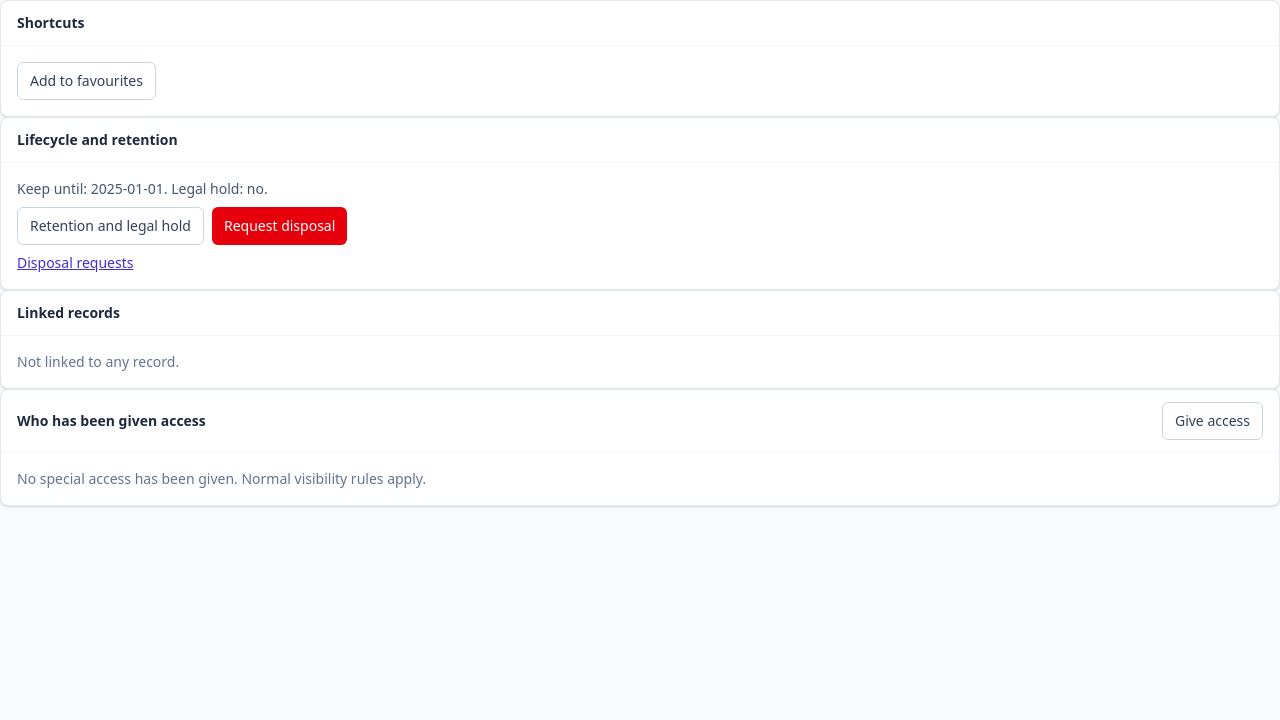
DocumentTools: lifecycle › requests disposal of an archived document
Click the button "Request disposal".
click(280, 226)  # box [212,207,347,245]
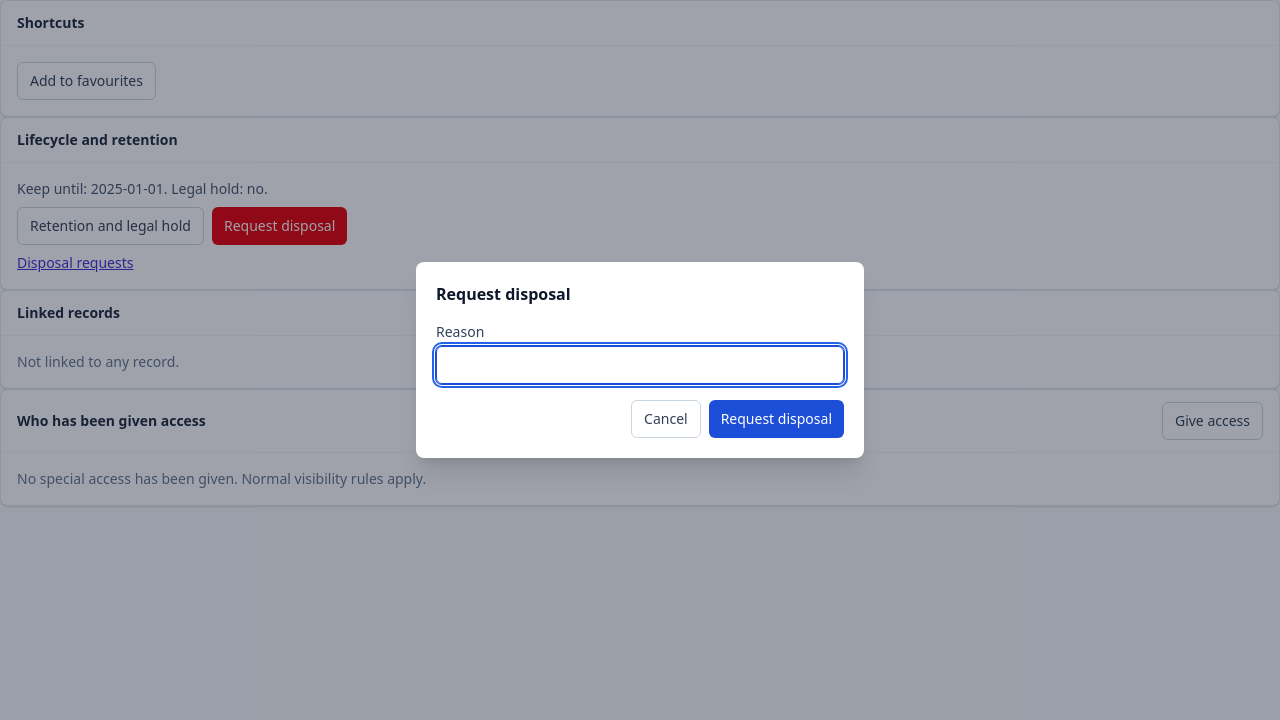
Type "Retention over" into the field labelled "Reason".
click(640, 365); type("Retention over")  # box [436,346,844,384]
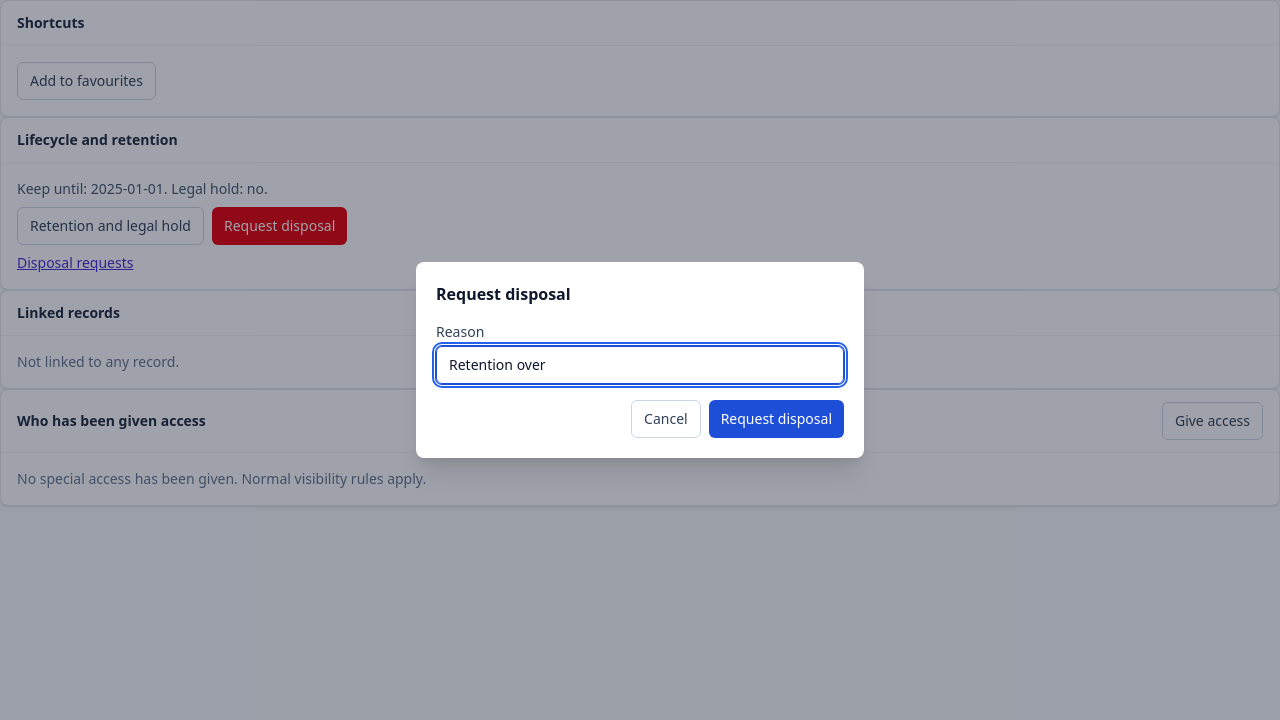
Click the button "Request disposal".
click(776, 419)  # box [709,400,844,438]
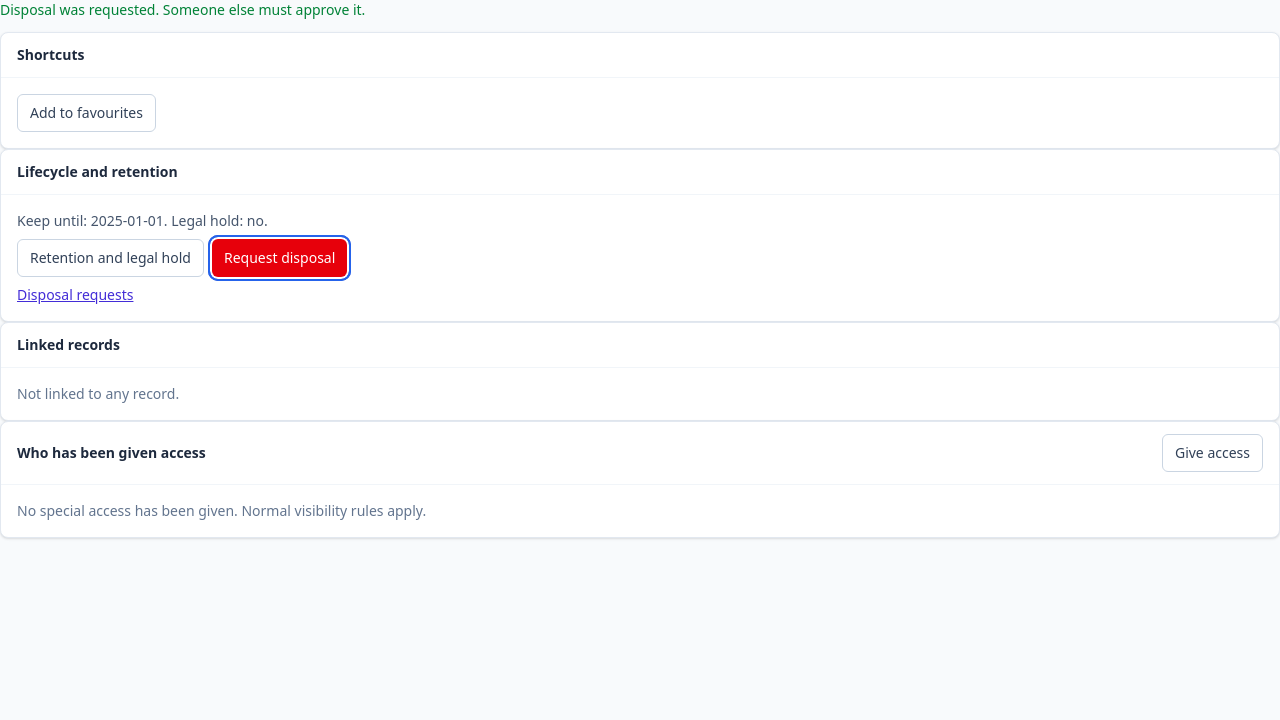
expect the text "Disposal was requested. Someone else must approve it." is shown: met, box [0,0,365,19]
